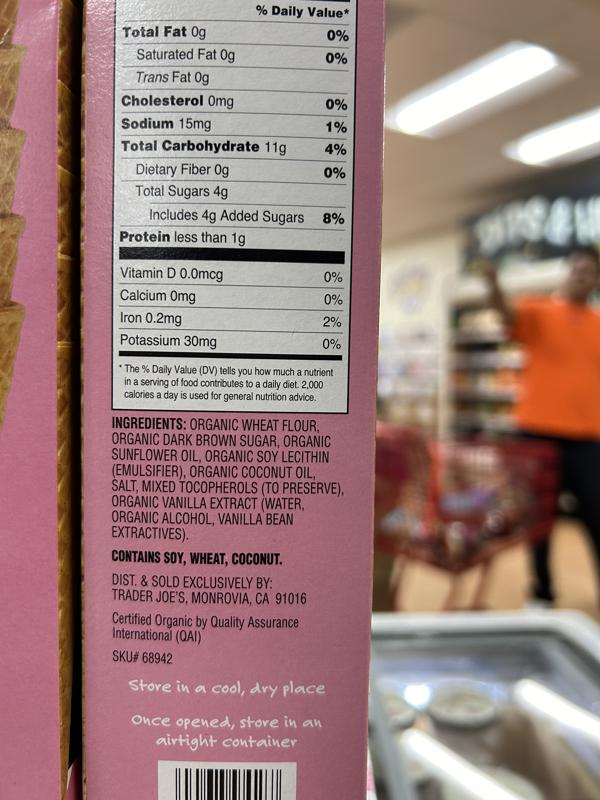ingredients: (109, 414, 347, 543)
